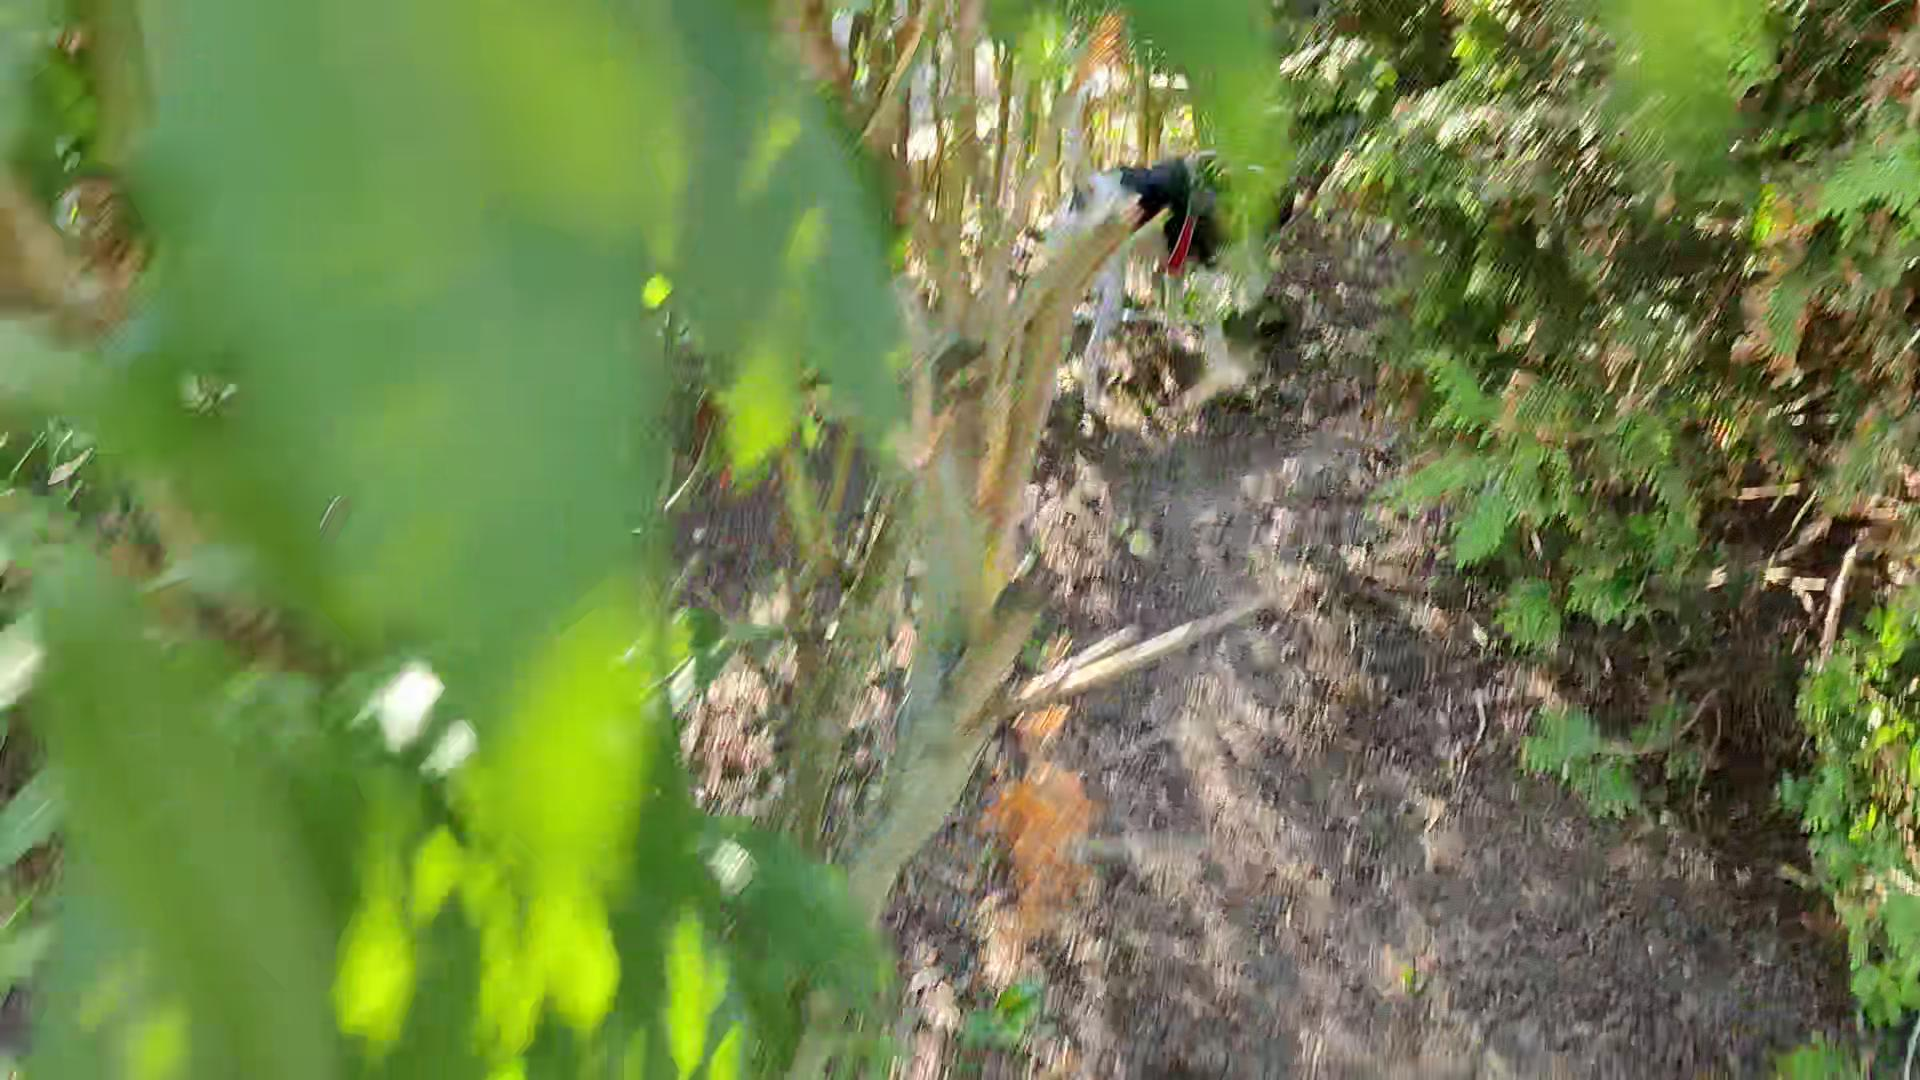Dog: (1019, 66, 1321, 426)
